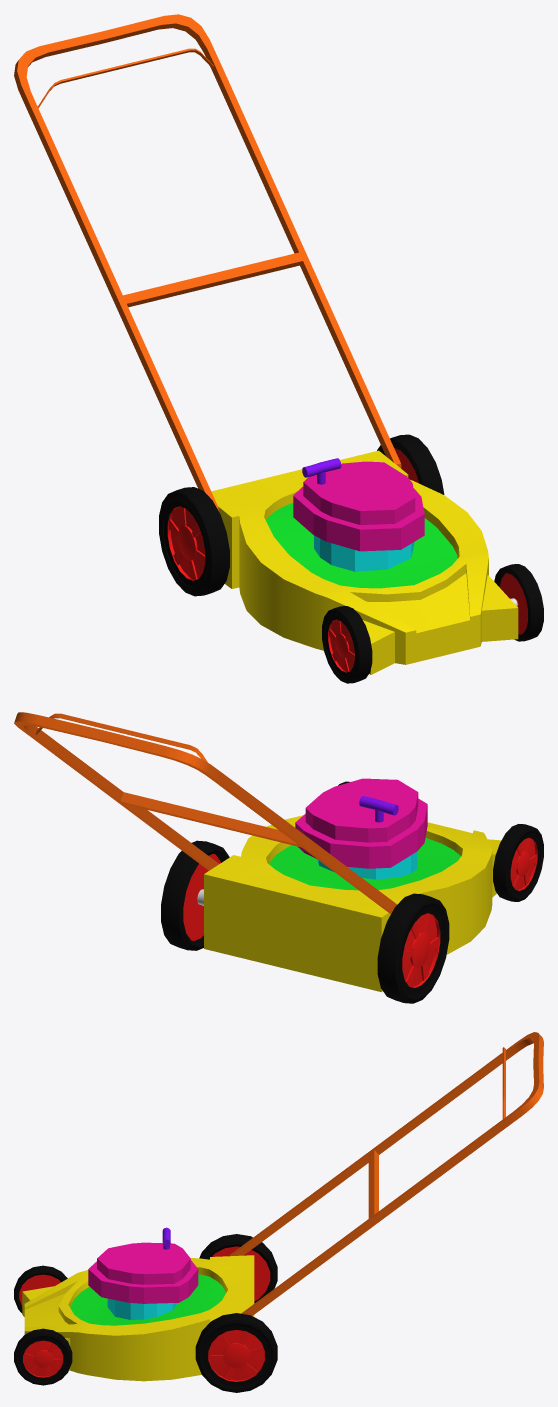
Rendered from mesh_tondeuse.fbx.
The picture shows the model from 3 angles, top to bottom: view 1: azimuth 30°, elevation 25°; view 2: azimuth 150°, elevation 25°; view 3: azimuth 270°, elevation 25°; orthographic projection. The views are drawn at different scales.
Parts seen in each view (by area): view 1: MSH_Mower_low, Wheel_004, Wheel_005, Wheel_007, Wheel_; view 2: MSH_Mower_low, Wheel_004, Wheel_, Wheel_005, Cylinder002; view 3: MSH_Mower_low, Wheel_, Wheel_007, Wheel_004, Wheel_005.
Boxes of the visible parts, bbox=[...] form: MSH_Mower_low: bbox=[14, 14, 518, 674]; Wheel_004: bbox=[159, 487, 229, 596]; Wheel_005: bbox=[322, 606, 372, 683]; Wheel_007: bbox=[494, 564, 543, 641]; Wheel_: bbox=[377, 434, 444, 494]; MSH_Mower_low: bbox=[14, 712, 501, 991]; Wheel_004: bbox=[377, 893, 449, 1003]; Wheel_: bbox=[161, 840, 229, 950]; Wheel_005: bbox=[493, 824, 543, 901]; Cylinder002: bbox=[359, 796, 398, 822]; MSH_Mower_low: bbox=[22, 1032, 543, 1381]; Wheel_: bbox=[195, 1313, 277, 1392]; Wheel_007: bbox=[14, 1328, 72, 1385]; Wheel_004: bbox=[199, 1234, 277, 1303]; Wheel_005: bbox=[14, 1265, 67, 1313].
Size of the model in its own units: 65.53 by 103 by 169.
